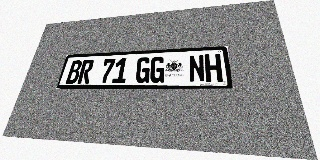1: (112, 58, 129, 83)
7: (99, 59, 116, 83)
B: (65, 60, 83, 84)
G: (149, 56, 165, 83), (135, 57, 151, 83)
H: (204, 54, 223, 82)
N: (189, 54, 205, 82)
R: (77, 60, 94, 84)
